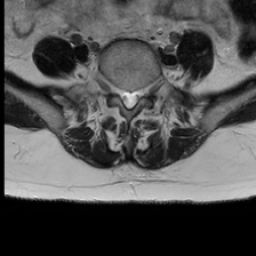CCS_normal: (126, 81, 133, 117)
LFS_normal: (141, 77, 149, 106)
LLS_normal: (133, 80, 141, 114)
RFS_normal: (111, 75, 119, 102)
RLS_normal: (119, 79, 126, 113)
